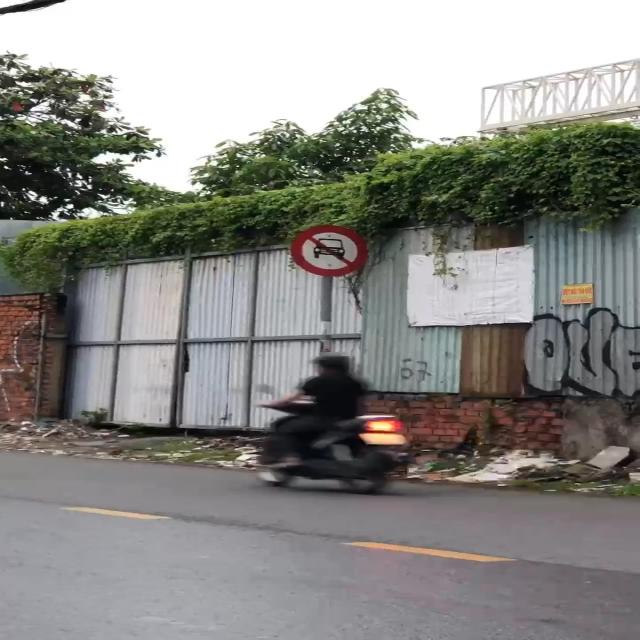Bien bao cam xe oto: (288, 218, 372, 277)
